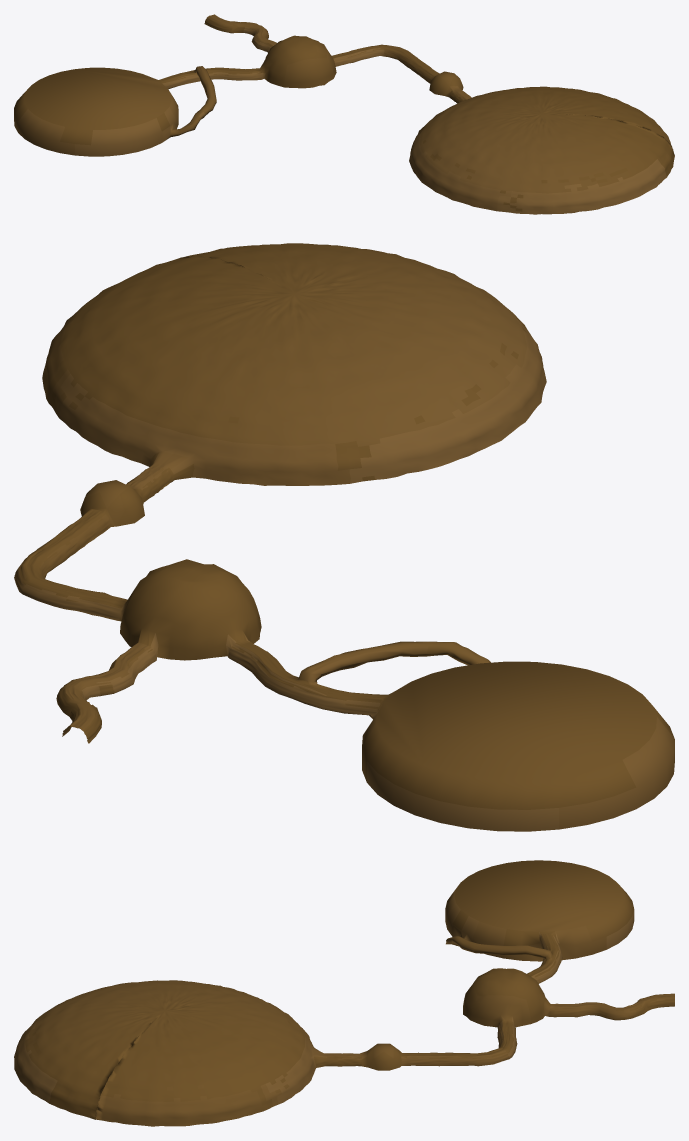
File: catacomb_system.fbx
3 views of the same model, one above another, from view 1: azimuth 30°, elevation 25°; view 2: azimuth 150°, elevation 25°; view 3: azimuth 270°, elevation 25° (orthographic). The views are drawn at different scales.
Visible parts, largest first — view 1: ground; view 2: ground; view 3: ground.
Part boxes in pixels (x1,y1,x2,y2): ground: [14, 14, 674, 214]; ground: [14, 243, 674, 831]; ground: [14, 860, 674, 1126].
Size of the model in its own units: 41337 by 4704 by 38647.
